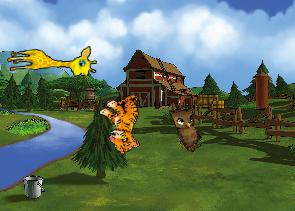giraffe: (6, 45, 97, 82)
owl: (164, 100, 213, 154)
tiger: (92, 88, 157, 157)
